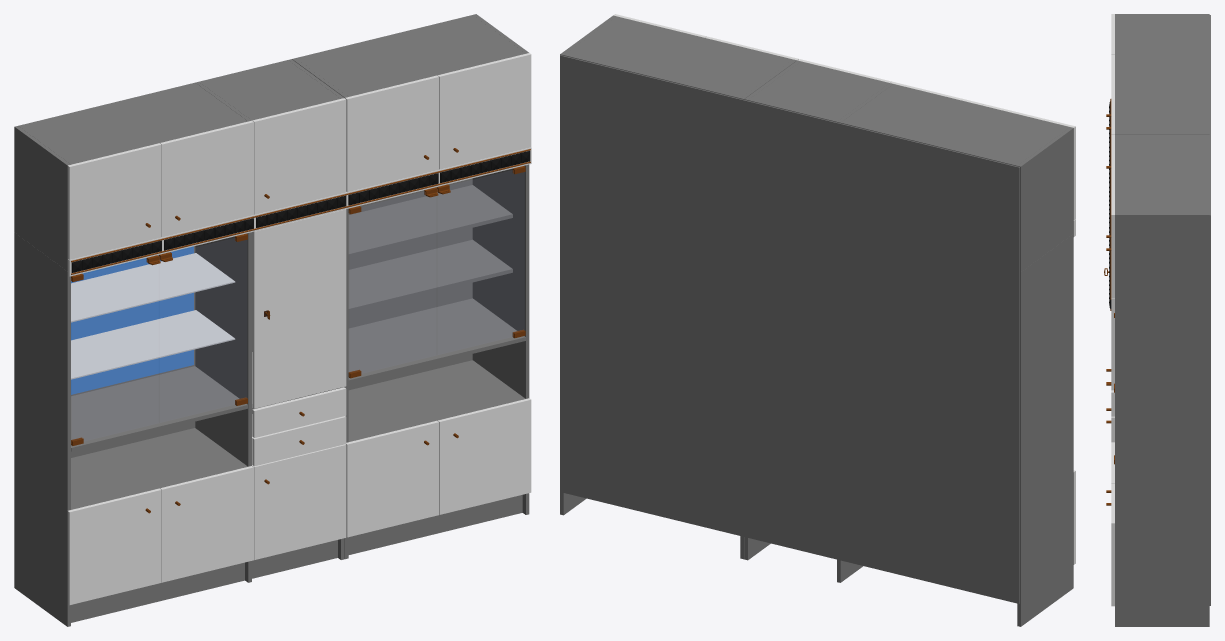
File: cupboard.FBX
The picture shows the model from 3 angles, left to right: view 1: azimuth 30°, elevation 25°; view 2: azimuth 150°, elevation 25°; view 3: azimuth 270°, elevation 25°; orthographic projection. The views are drawn at different scales.
Parts seen in each view (by area): view 1: Box001; view 2: Box001; view 3: Box001.
Part boxes in pixels (<box>): Box001: <box>14,14,531,626</box>; Box001: <box>560,14,1075,626</box>; Box001: <box>1104,14,1210,626</box>.
Bounding box in the file's own units: 81.89 × 78.18 × 18.39.
